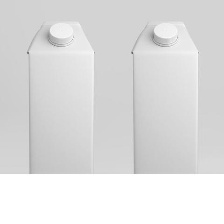carton: (123, 18, 212, 179), (22, 15, 101, 177)
